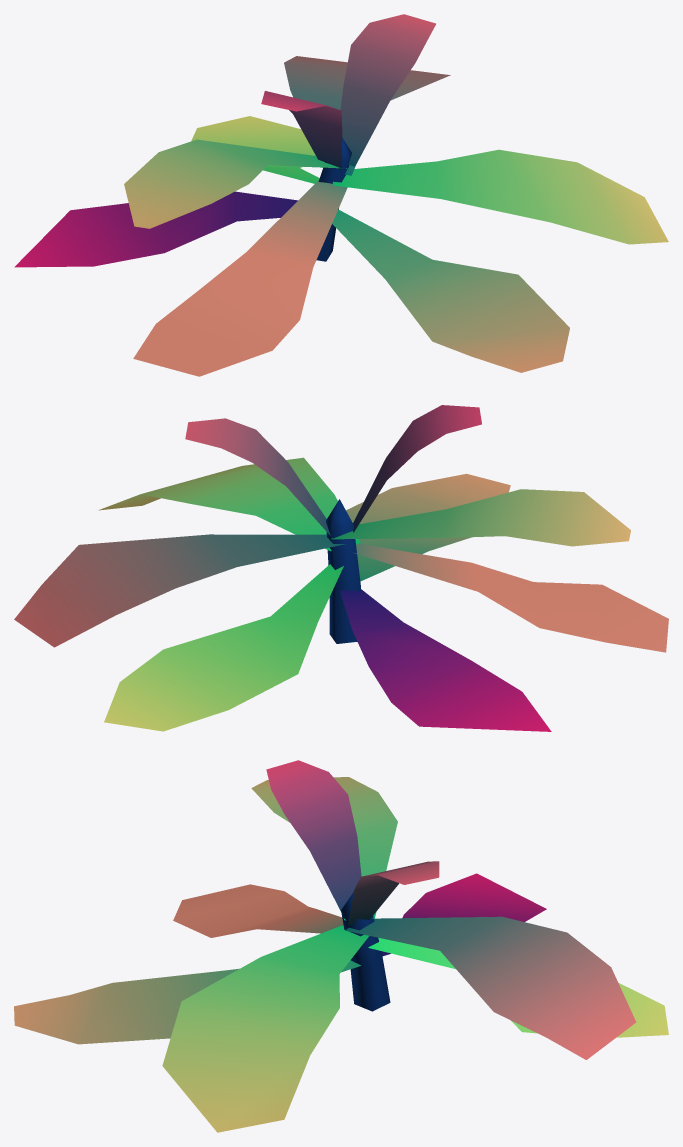
The model's file is sfcnq_VarD_LOD1.fbx.
The picture shows the model from 3 angles, top to bottom: view 1: azimuth 30°, elevation 25°; view 2: azimuth 150°, elevation 25°; view 3: azimuth 270°, elevation 25°; orthographic projection. The views are drawn at different scales.
Visible parts, largest first — view 1: _f48b_VarD_LOD2; view 2: _f48b_VarD_LOD2; view 3: _f48b_VarD_LOD2.
Part boxes in pixels (<box>): _f48b_VarD_LOD2: <box>14,14,668,376</box>; _f48b_VarD_LOD2: <box>14,405,668,731</box>; _f48b_VarD_LOD2: <box>14,760,668,1132</box>.
Size of the model in its own units: 32.24 by 11.61 by 34.65.
